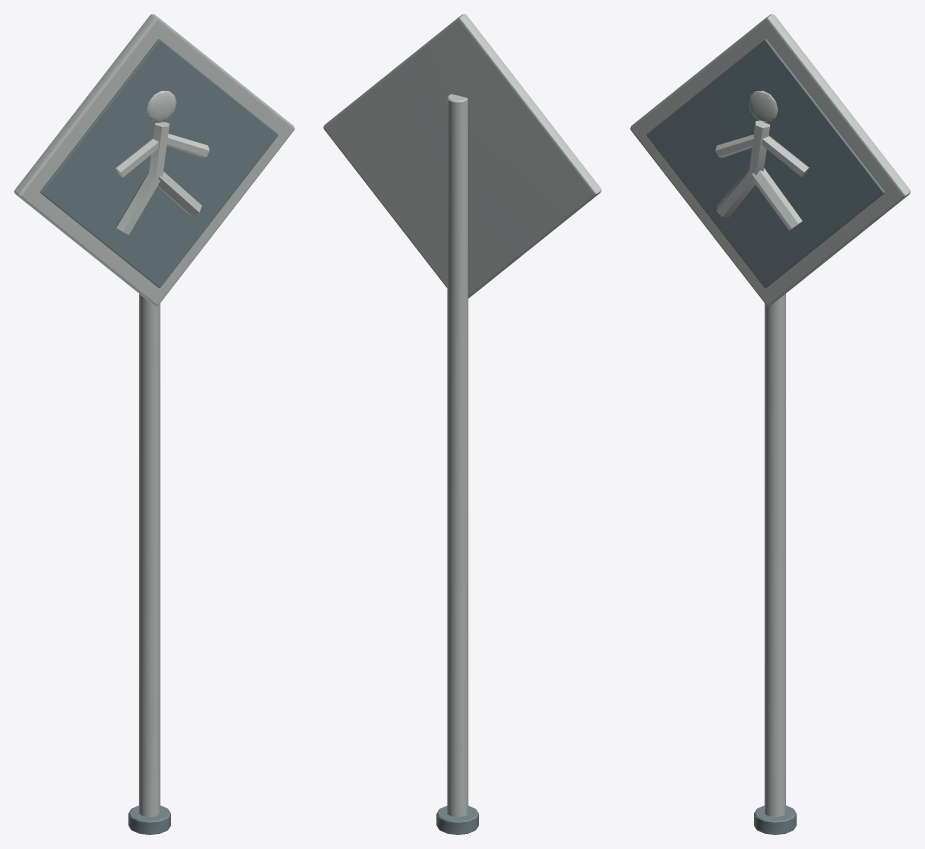
File: crosswalk-sign.glb
3 views of the same model, side by side, from view 1: azimuth 30°, elevation 25°; view 2: azimuth 150°, elevation 25°; view 3: azimuth 330°, elevation 25° (orthographic).
Visible parts, largest first — view 1: inset_diamond, diamond, sign_post, pictogram_body, pictogram_arms, sign_post_foot, pictogram_leg, pictogram_head; view 2: diamond, sign_post, sign_post_foot; view 3: inset_diamond, diamond, sign_post, pictogram_body, pictogram_arms, pictogram_leg, sign_post_foot, pictogram_head.
Part boxes in pixels (x1=…): inset_diamond: x1=40, y1=39, x2=278, y2=287; diamond: x1=14, y1=14, x2=294, y2=305; sign_post: x1=139, y1=294, x2=160, y2=816; pictogram_body: x1=116, y1=122, x2=169, y2=234; pictogram_arms: x1=115, y1=133, x2=209, y2=177; sign_post_foot: x1=128, y1=805, x2=170, y2=834; pictogram_leg: x1=158, y1=171, x2=201, y2=216; pictogram_head: x1=147, y1=90, x2=176, y2=121; diamond: x1=323, y1=14, x2=601, y2=298; sign_post: x1=447, y1=94, x2=468, y2=817; sign_post_foot: x1=436, y1=806, x2=478, y2=834; inset_diamond: x1=646, y1=39, x2=884, y2=287; diamond: x1=630, y1=14, x2=910, y2=305; sign_post: x1=764, y1=294, x2=785, y2=816; pictogram_body: x1=716, y1=120, x2=769, y2=217; pictogram_arms: x1=715, y1=134, x2=809, y2=177; pictogram_leg: x1=751, y1=168, x2=802, y2=230; sign_post_foot: x1=754, y1=805, x2=796, y2=834; pictogram_head: x1=748, y1=90, x2=777, y2=121.
Bounding box in the file's own units: 0.8334 × 2.35 × 0.143.
